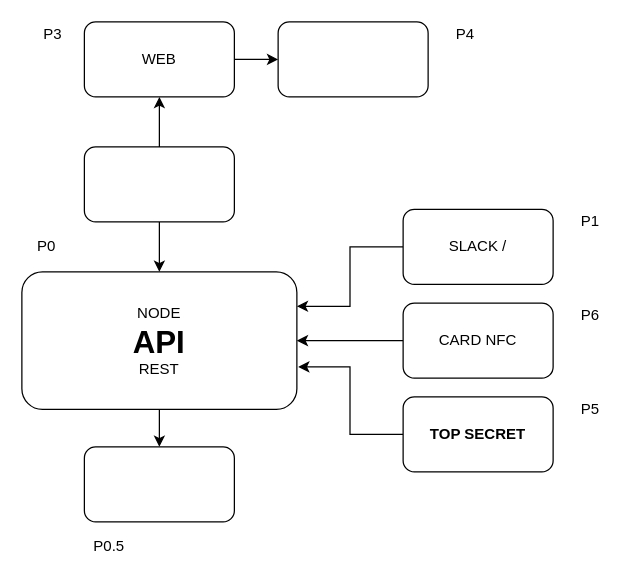
Some shapes in this 638 by 581 pixel diagram are drawn without their labels. Each missing label, with the centre of its shape:
"Lärargränsnitt" belongs at (x=352, y=59).
"MySQL" belongs at (x=158, y=484).
"SLACK OAUTH" belongs at (x=158, y=184).
